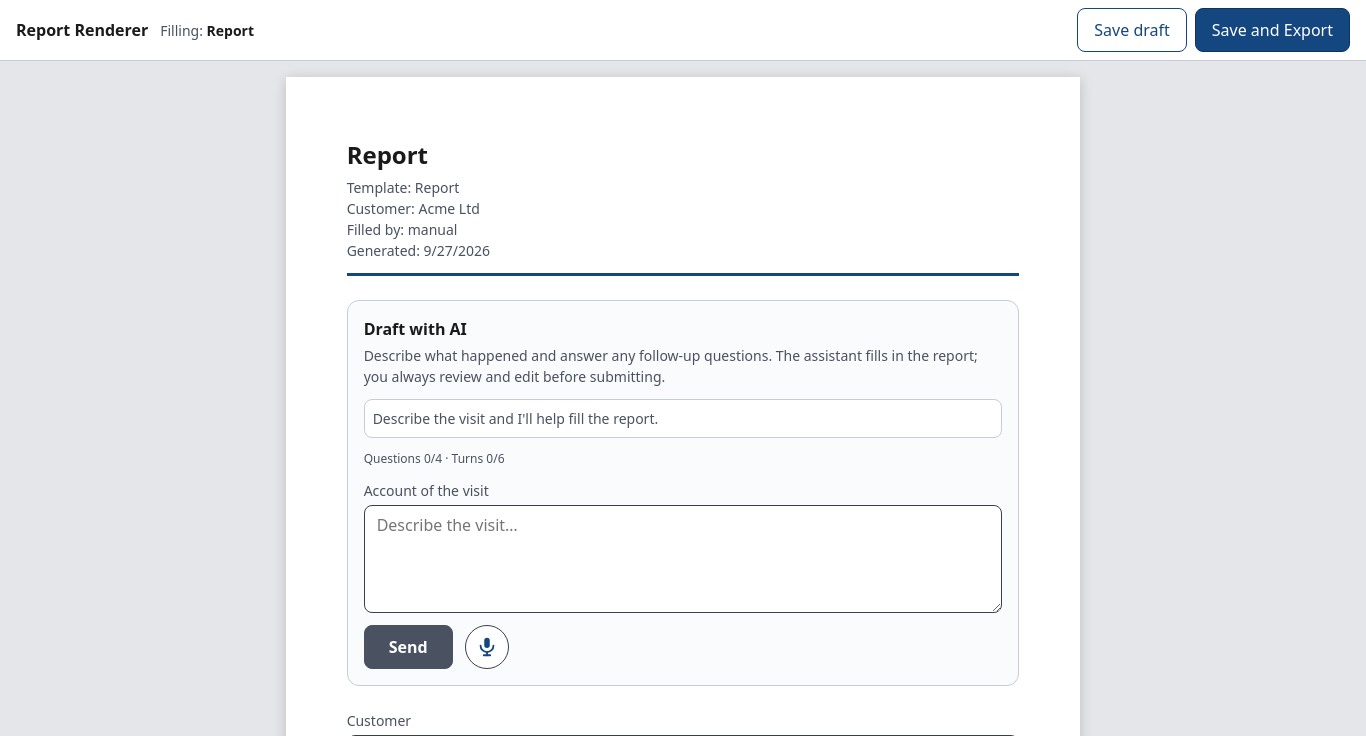
Test: Save and Export › does not print or navigate when the save itself fails
Click the button "Save and Export": (1272, 30) left=1195, top=8, right=1350, bottom=52
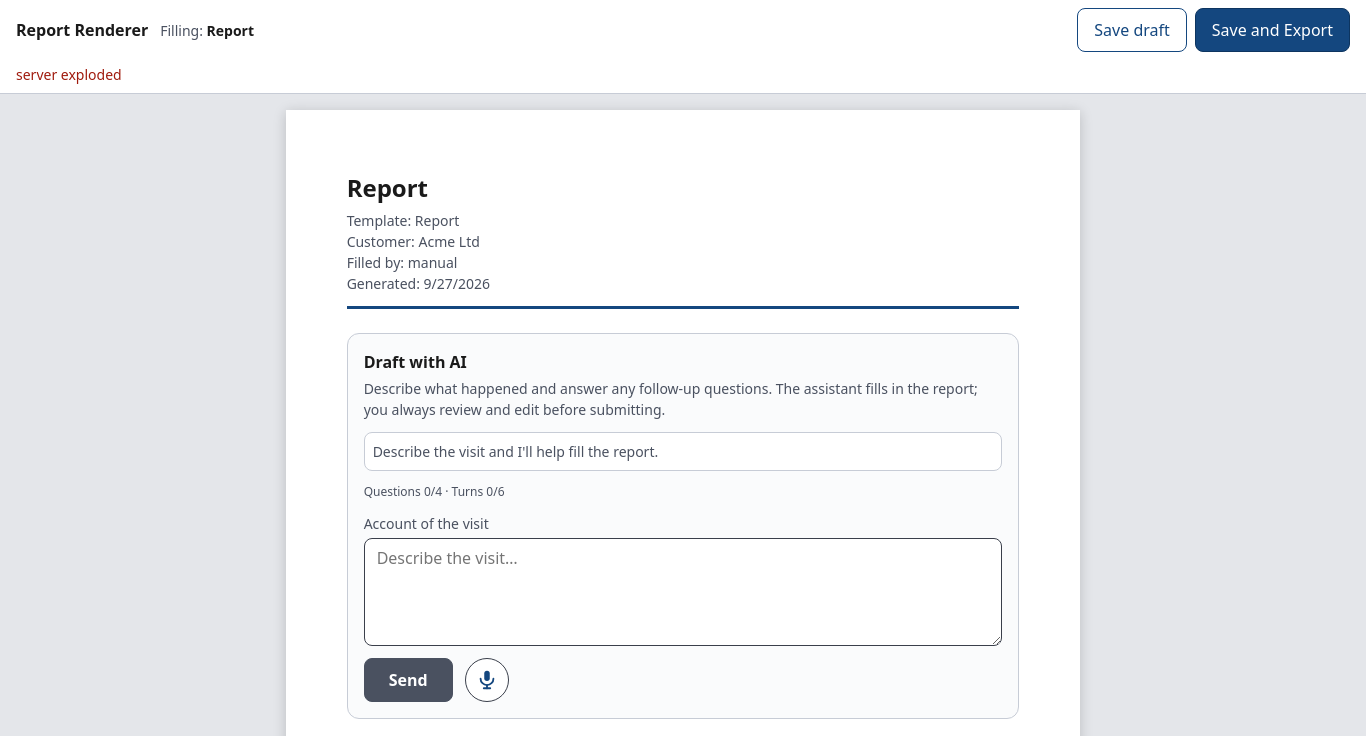
Expected: the message "server exploded" is shown, left=16, top=65, right=122, bottom=84
